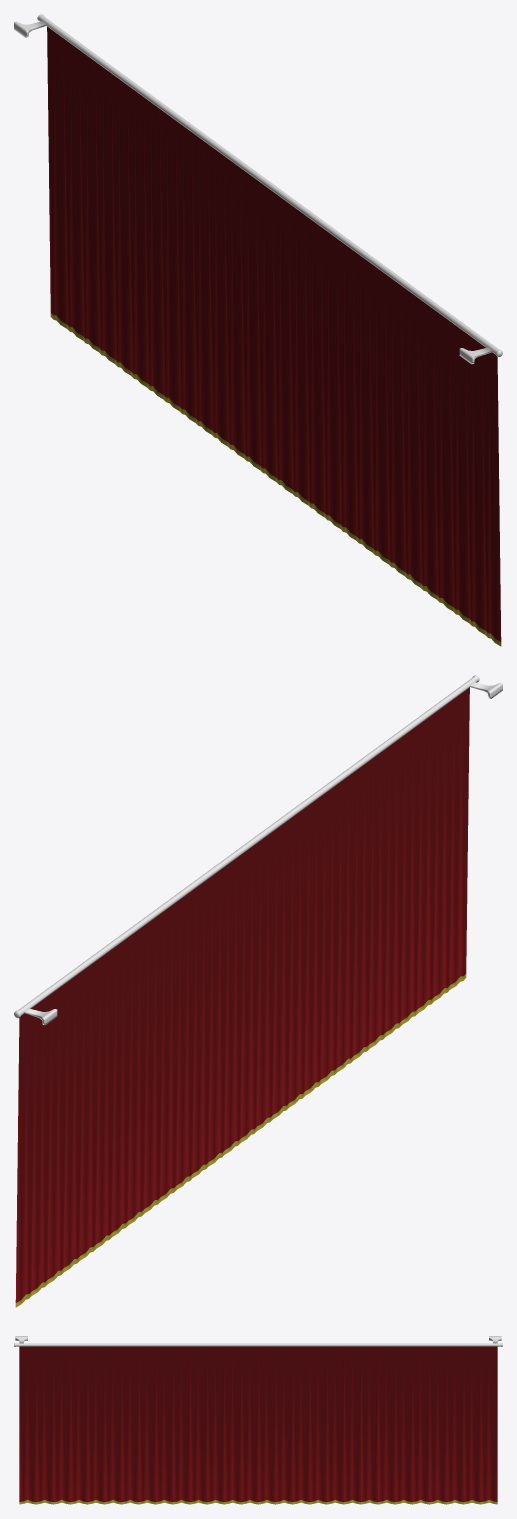
Rendered from Stage Curtains.fbx.
The picture shows the model from 3 angles, top to bottom: view 1: azimuth 30°, elevation 25°; view 2: azimuth 150°, elevation 25°; view 3: azimuth 270°, elevation 25°; orthographic projection. The views are drawn at different scales.
Parts seen in each view (by area): view 1: Stage Curtains, Cylinder; view 2: Stage Curtains, Cylinder; view 3: Stage Curtains, Cylinder.
Part boxes in pixels (x1=…): Stage Curtains: x1=47, y1=26, x2=501, y2=646; Cylinder: x1=14, y1=14, x2=502, y2=364; Stage Curtains: x1=15, y1=687, x2=469, y2=1307; Cylinder: x1=14, y1=675, x2=502, y2=1025; Stage Curtains: x1=19, y1=1346, x2=497, y2=1504; Cylinder: x1=14, y1=1336, x2=502, y2=1346.
Bounding box in the file's own units: 72.63 × 629 × 1744.
